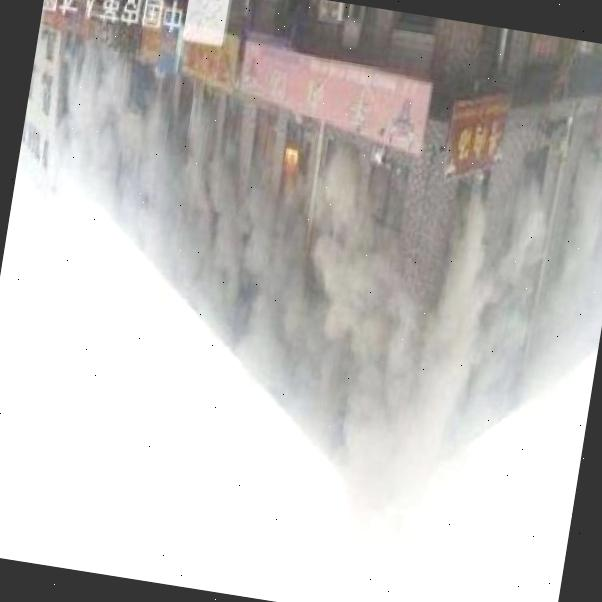fire: (275, 135, 318, 185)
smoke: (188, 175, 446, 511), (401, 151, 602, 505), (20, 55, 245, 330), (319, 126, 382, 201)
